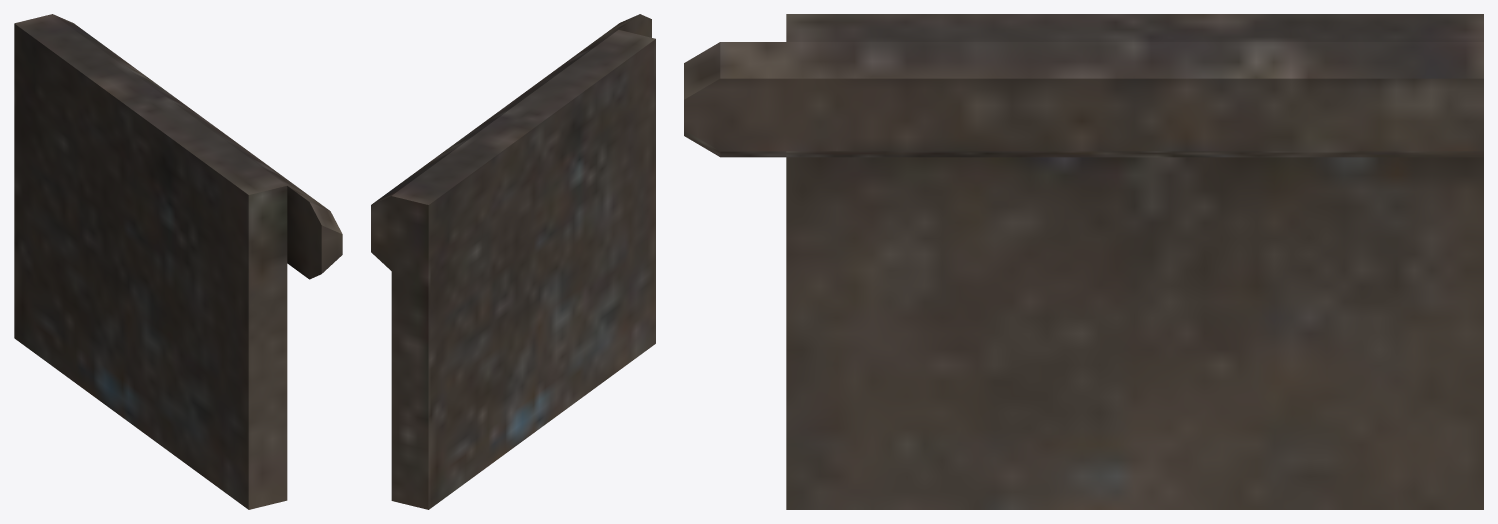
Rendered from BalconyWall_02.FBX.
3 views of the same model, side by side, from view 1: azimuth 30°, elevation 25°; view 2: azimuth 150°, elevation 25°; view 3: azimuth 270°, elevation 25° (orthographic). The views are drawn at different scales.
Parts seen in each view (by area): view 1: BalconyWall_02; view 2: BalconyWall_02; view 3: BalconyWall_02.
Part boxes in pixels (box(x1,y1,x2,y2)): BalconyWall_02: box(14, 14, 342, 509); BalconyWall_02: box(371, 14, 655, 509); BalconyWall_02: box(684, 14, 1483, 509).
Bounding box in the file's own units: 22.71 × 115 × 178.
